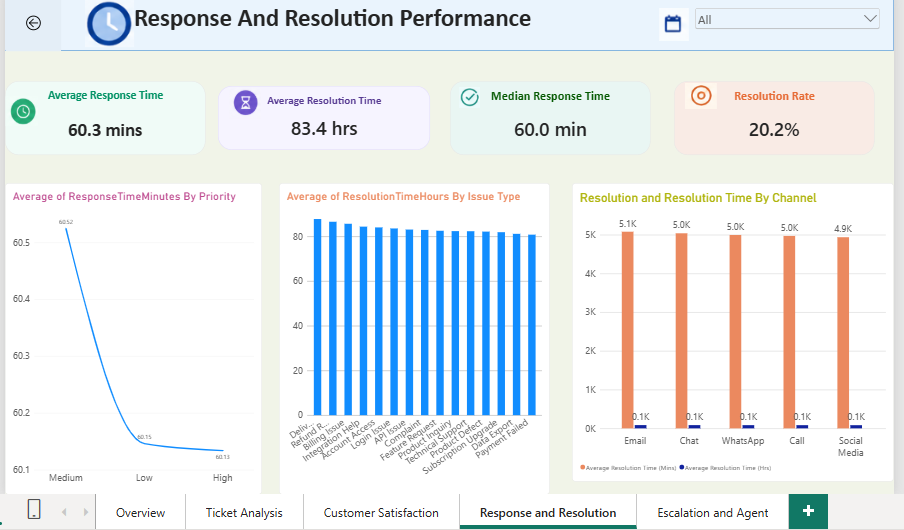

The page's visual inventory and layout, read from the dashboard file:
{"tool":"powerbi","page":{"name":"Response and Resolution","canvas":[1920,1080],"ordinal":3},"visuals":[{"type":"shape","box":[0,0,1920.2,123.1],"z":0},{"type":"image","box":[172,10,105.8,103.7],"z":1000},{"type":"textbox","box":[278,0,976,124],"z":2000},{"type":"slicer","fields":{"Values":["customer_support_dataset.MonthYear"]},"box":[1486.1,23.8,408.2,77.8],"z":3000},{"type":"image","box":[1404,30.2,82.1,71.3],"z":4000},{"type":"card","title":"Average Response Time","fields":{"Values":["customer_support_dataset.Average Response Time Display"]},"box":[0,187.9,432.5,160],"z":5000},{"type":"image","box":[0,220.3,72.5,65],"z":6000},{"type":"card","title":"Average Resolution Time","fields":{"Values":["customer_support_dataset.Average Resolution Time Display"]},"box":[460.1,198.7,457.5,137.5],"z":7000},{"type":"image","box":[483.8,198.7,69.4,73.5],"z":8000},{"type":"card","title":"Median Response Time","fields":{"Values":["customer_support_dataset.Median Response Time Display"]},"box":[961.2,187.9,433,160],"z":9000},{"type":"card","title":"Resolution Rate","fields":{"Values":["customer_support_dataset.Resolution Rate"]},"box":[1445,187.9,433,160],"z":10000},{"type":"image","box":[959,200.9,88.6,45.4],"z":11000},{"type":"image","box":[1466.6,192.2,73.4,56.2],"z":12000},{"type":"lineChart","title":"Average of ResponseTimeMinutes By Priority","fields":{"Category":["customer_support_dataset.Priority"],"Y":["Avg(customer_support_dataset.ResponseTimeMinutes)"]},"box":[0,407.5,555,672.5],"z":13000},{"type":"columnChart","title":"Average of ResolutionTimeHours By Issue Type","fields":{"Category":["customer_support_dataset.IssueType"],"Y":["Avg(customer_support_dataset.ResolutionTimeHours)"]},"box":[592.5,407.5,585,672.5],"z":14000},{"type":"clusteredColumnChart","title":"Resolution  and  Resolution Time By Channel","fields":{"Category":["customer_support_dataset.Channel"],"Y":["customer_support_dataset.Average Resolution Time (Mins)","customer_support_dataset.Average Resolution Time (Hrs)"]},"box":[1225,407.5,695,645],"z":15000},{"type":"actionButton","box":[0,0,122,124],"z":15001}]}

Visuals, with their boxes on the page's 1920x1080 design canvas (x1, y1, x2, y2). These are canvas units, not pixel positions in the 904x530 screenshot, which may show the page scaled, cropped or inside an application window:
shape: l=0, t=0, r=1920, b=123
image: l=172, t=10, r=278, b=114
textbox: l=278, t=0, r=1254, b=124
slicer - customer_support_dataset.MonthYear: l=1486, t=24, r=1894, b=102
image: l=1404, t=30, r=1486, b=102
"Average Response Time" card: l=0, t=188, r=432, b=348
image: l=0, t=220, r=72, b=285
"Average Resolution Time" card: l=460, t=199, r=918, b=336
image: l=484, t=199, r=553, b=272
"Median Response Time" card: l=961, t=188, r=1394, b=348
"Resolution Rate" card: l=1445, t=188, r=1878, b=348
image: l=959, t=201, r=1048, b=246
image: l=1467, t=192, r=1540, b=248
"Average of ResponseTimeMinutes By Priority" lineChart: l=0, t=408, r=555, b=1080
"Average of ResolutionTimeHours By Issue Type" columnChart: l=592, t=408, r=1178, b=1080
"Resolution  and  Resolution Time By Channel" clusteredColumnChart: l=1225, t=408, r=1920, b=1052
actionButton: l=0, t=0, r=122, b=124
